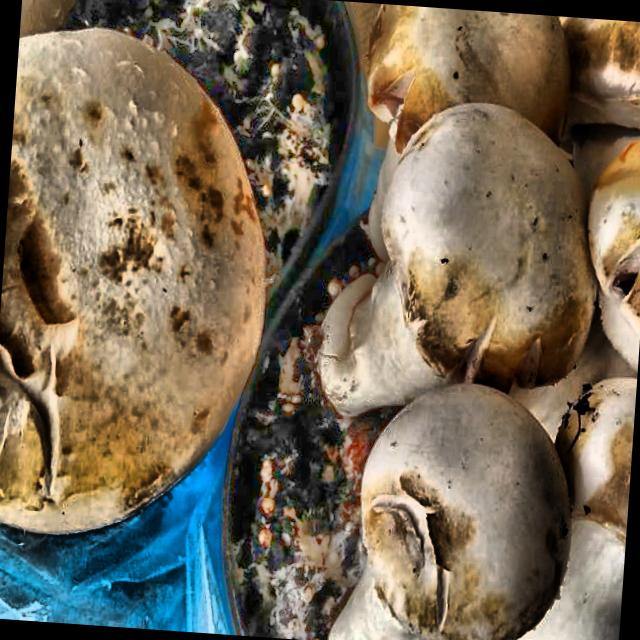Affected: (19, 76, 238, 352), (370, 494, 472, 632), (406, 234, 496, 375), (539, 15, 640, 128), (568, 415, 634, 556), (584, 201, 640, 360)
